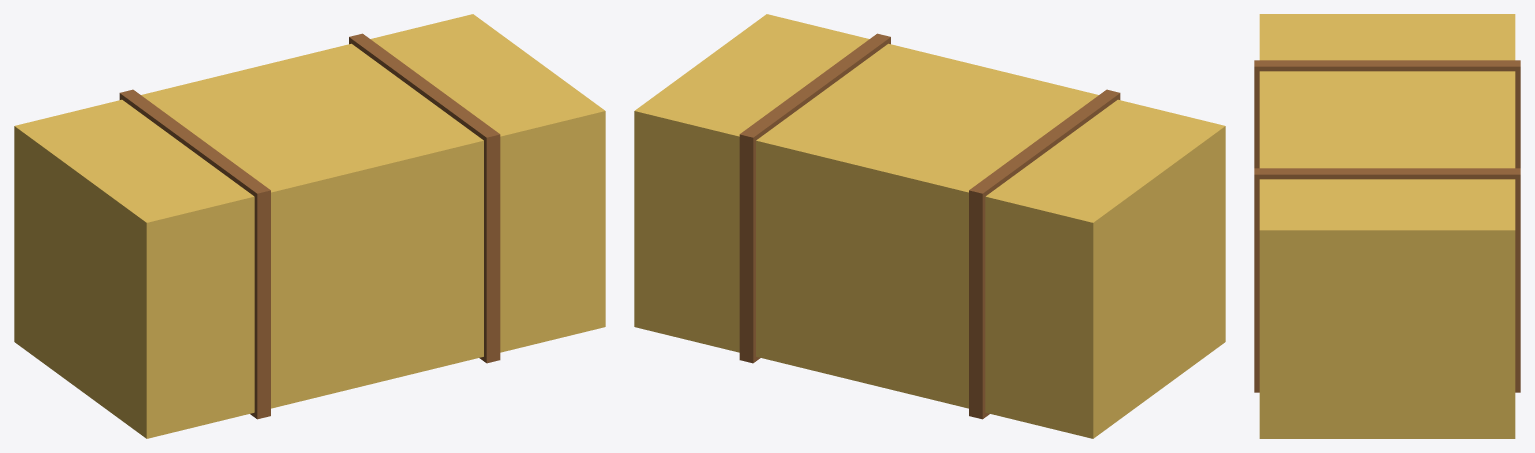
Rendered from hay_bale_square.glb.
The picture shows the model from 3 angles, left to right: view 1: azimuth 30°, elevation 25°; view 2: azimuth 150°, elevation 25°; view 3: azimuth 270°, elevation 25°; orthographic projection. The views are drawn at different scales.
Visible parts, largest first — view 1: hay_bale_square; view 2: hay_bale_square; view 3: hay_bale_square.
Boxes of the visible parts, <box> form: hay_bale_square: <box>14,14,605,438</box>; hay_bale_square: <box>634,14,1225,438</box>; hay_bale_square: <box>1254,14,1520,438</box>.
Size of the model in its own units: 1 by 0.47 by 0.52.
